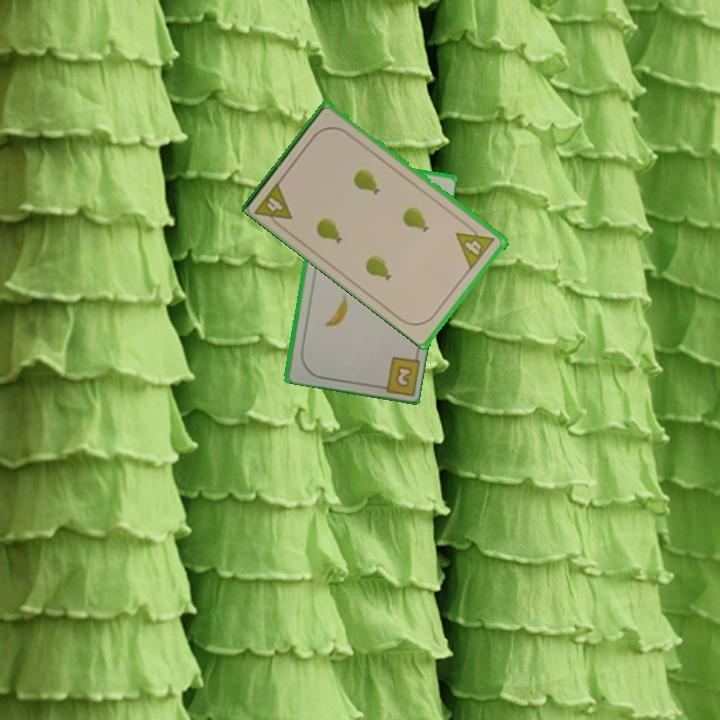2b: (372, 352, 421, 396)
4p: (251, 177, 296, 233), (453, 219, 498, 272)
